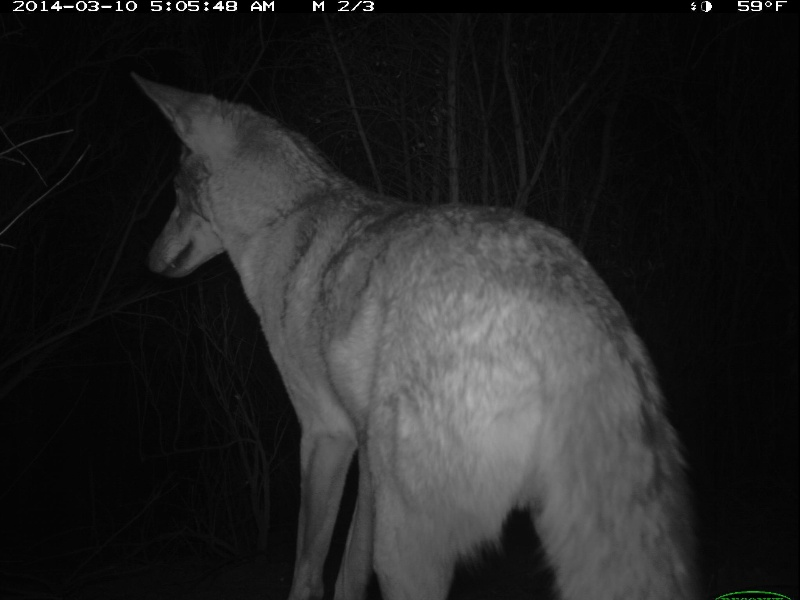coyote: (127, 66, 706, 600)
